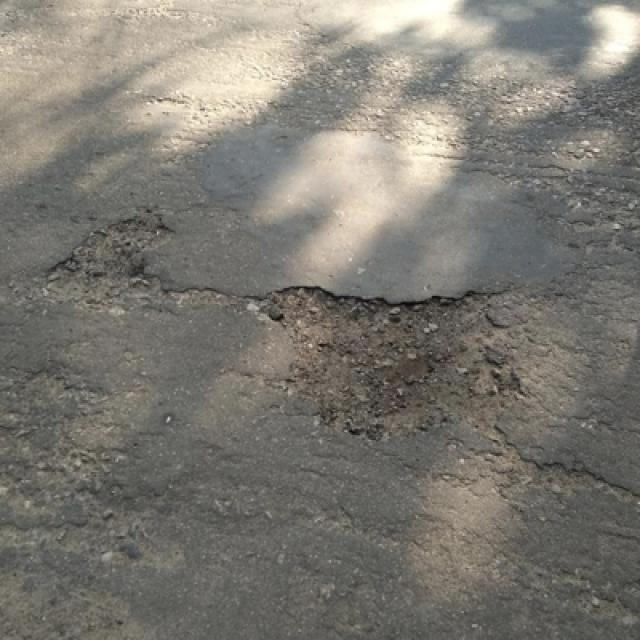pothole: (269, 279, 530, 452), (40, 213, 176, 319)
